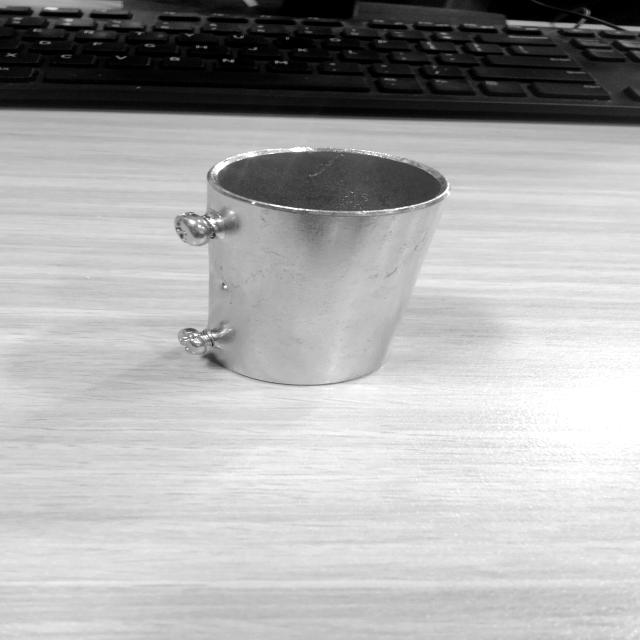Co_Nho: (132, 89, 456, 421)
